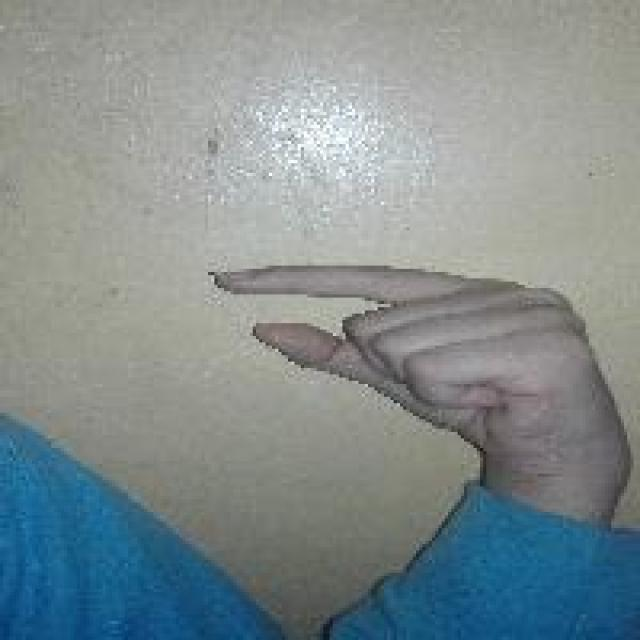G: (208, 261, 627, 510)
